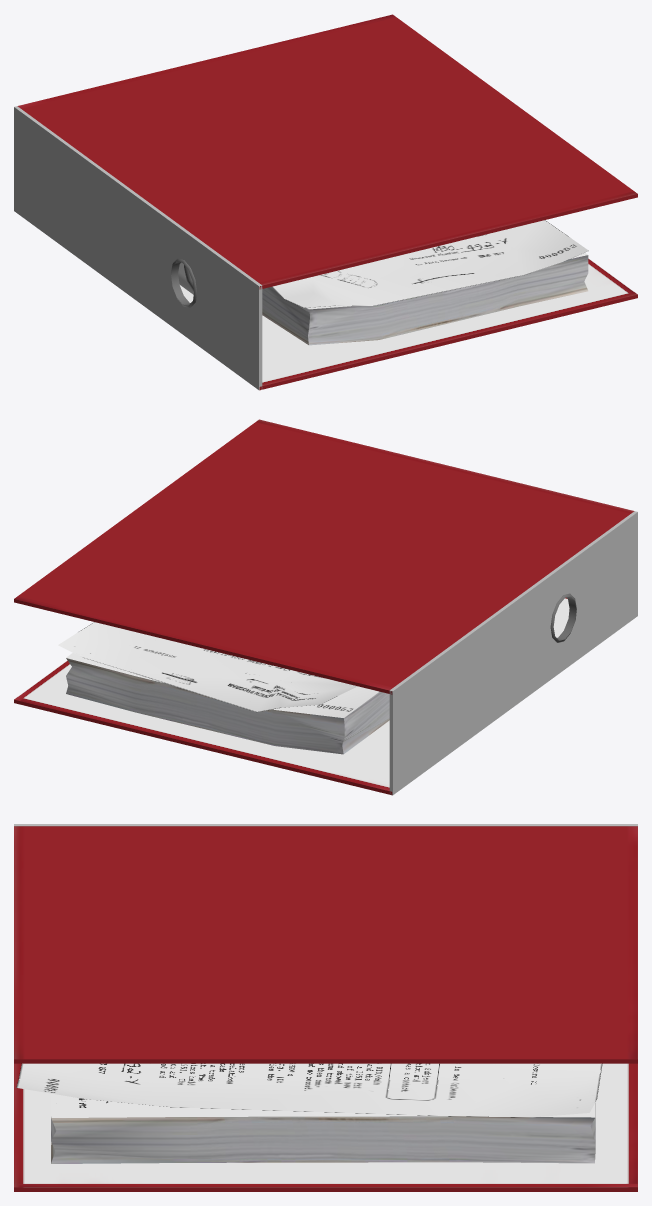
The model's file is filebinder.FBX.
3 renders of one model, top to bottom at view 1: azimuth 30°, elevation 25°; view 2: azimuth 150°, elevation 25°; view 3: azimuth 270°, elevation 25°, orthographic. The views are drawn at different scales.
Visible parts, largest first — view 1: Box002, Box004, Plane001, Box006, Box003; view 2: Box002, Box004, Box006, Plane001, Box003; view 3: Box002, Box006, Plane001, Box003, Box004.
Boxes of the visible parts, x1,y1,x2,y2 form: Box002: [17, 14, 637, 289]; Box004: [14, 106, 262, 390]; Plane001: [272, 220, 588, 307]; Box006: [262, 252, 588, 345]; Box003: [180, 258, 637, 390]; Box002: [14, 419, 634, 694]; Box004: [389, 511, 637, 795]; Box006: [66, 653, 389, 754]; Plane001: [58, 622, 356, 712]; Box003: [14, 597, 569, 795]; Box002: [14, 826, 637, 1063]; Box006: [51, 1093, 595, 1163]; Plane001: [16, 1063, 602, 1117]; Box003: [14, 1063, 637, 1191]; Box004: [14, 824, 637, 826].
Bounding box in the file's own units: 28.69 × 7.62 × 32.
